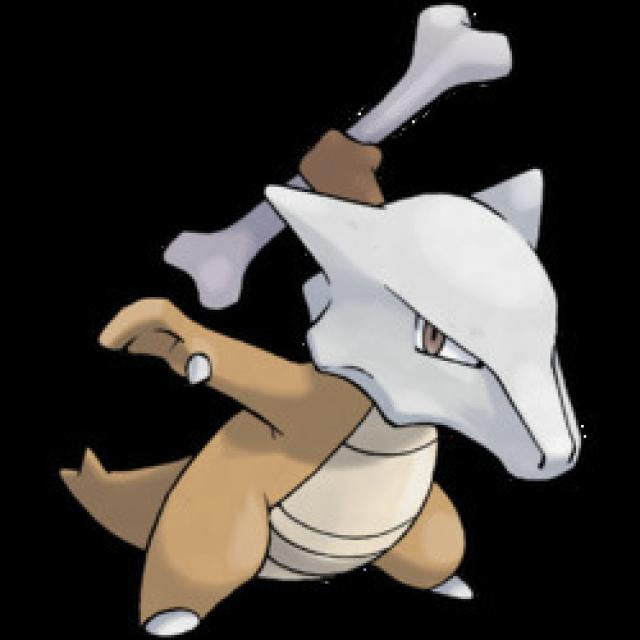Marowak: (116, 106, 586, 627)
